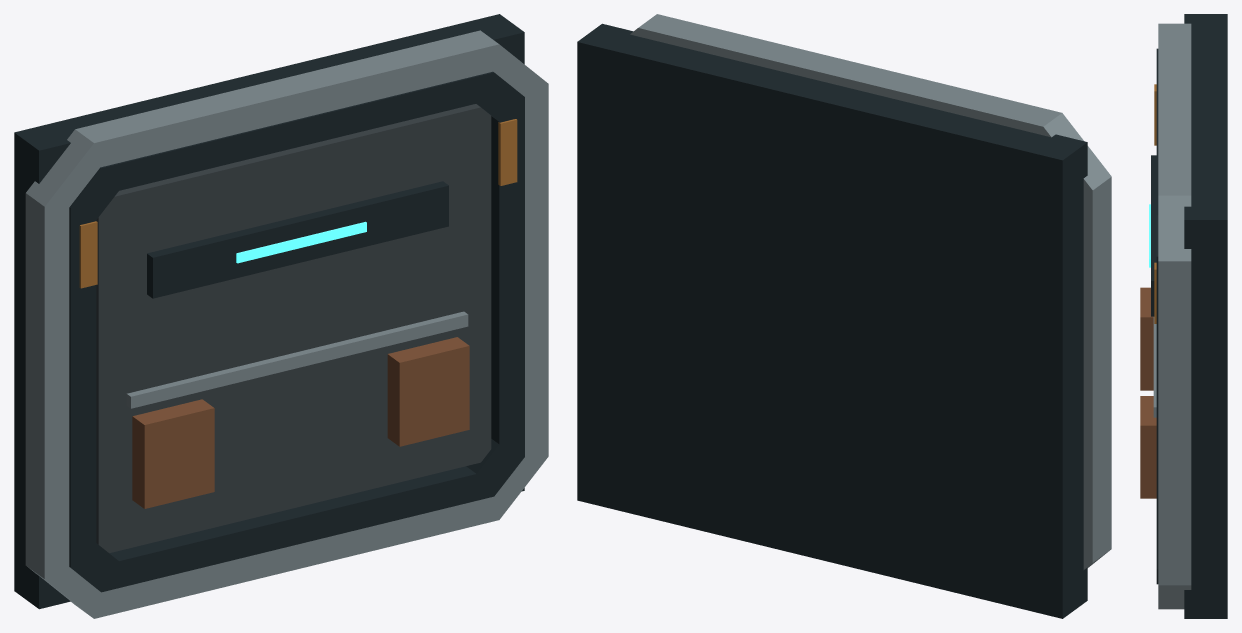
File: vault-r4-hatch.glb
The picture shows the model from 3 angles, left to right: view 1: azimuth 30°, elevation 25°; view 2: azimuth 150°, elevation 25°; view 3: azimuth 270°, elevation 25°; orthographic projection. The views are drawn at different scales.
Visible parts, largest first — view 1: Hatch · pressure panel, Hatch · cut-corner frame, Hatch · inner gasket, Hatch · sealed back, Hatch · visor slot, Hatch · clamp cover, Hatch · clamp cover.001, Hatch · lower split, Hatch · status strip, Hatch · pad marker.001, Hatch · pad marker; view 2: Hatch · sealed back, Hatch · cut-corner frame; view 3: Hatch · sealed back, Hatch · cut-corner frame, Hatch · clamp cover.001, Hatch · inner gasket, Hatch · clamp cover, Hatch · visor slot, Hatch · lower split, Hatch · pad marker, Hatch · pad marker.001.
Part boxes in pixels (box(x1,y1,x2,y2)): Hatch · pressure panel: box(96, 104, 491, 553); Hatch · cut-corner frame: box(25, 30, 548, 618); Hatch · inner gasket: box(69, 71, 524, 592); Hatch · sealed back: box(14, 14, 524, 609); Hatch · visor slot: box(147, 181, 448, 298); Hatch · clamp cover: box(132, 399, 214, 508); Hatch · clamp cover.001: box(387, 337, 469, 446); Hatch · lower split: box(126, 311, 468, 408); Hatch · status strip: box(236, 221, 366, 263); Hatch · pad marker.001: box(498, 119, 517, 185); Hatch · pad marker: box(79, 221, 97, 288); Hatch · sealed back: box(577, 23, 1087, 618); Hatch · cut-corner frame: box(630, 14, 1111, 569); Hatch · sealed back: box(1184, 14, 1227, 618); Hatch · cut-corner frame: box(1158, 23, 1191, 609); Hatch · clamp cover.001: box(1140, 396, 1156, 498); Hatch · inner gasket: box(1156, 48, 1158, 584); Hatch · clamp cover: box(1140, 287, 1153, 390); Hatch · visor slot: box(1151, 155, 1156, 316); Hatch · lower split: box(1153, 317, 1156, 417); Hatch · pad marker: box(1154, 84, 1156, 145); Hatch · pad marker.001: box(1154, 262, 1156, 323).
Bounding box in the file's own units: 2.45 × 2.21 × 0.422.
